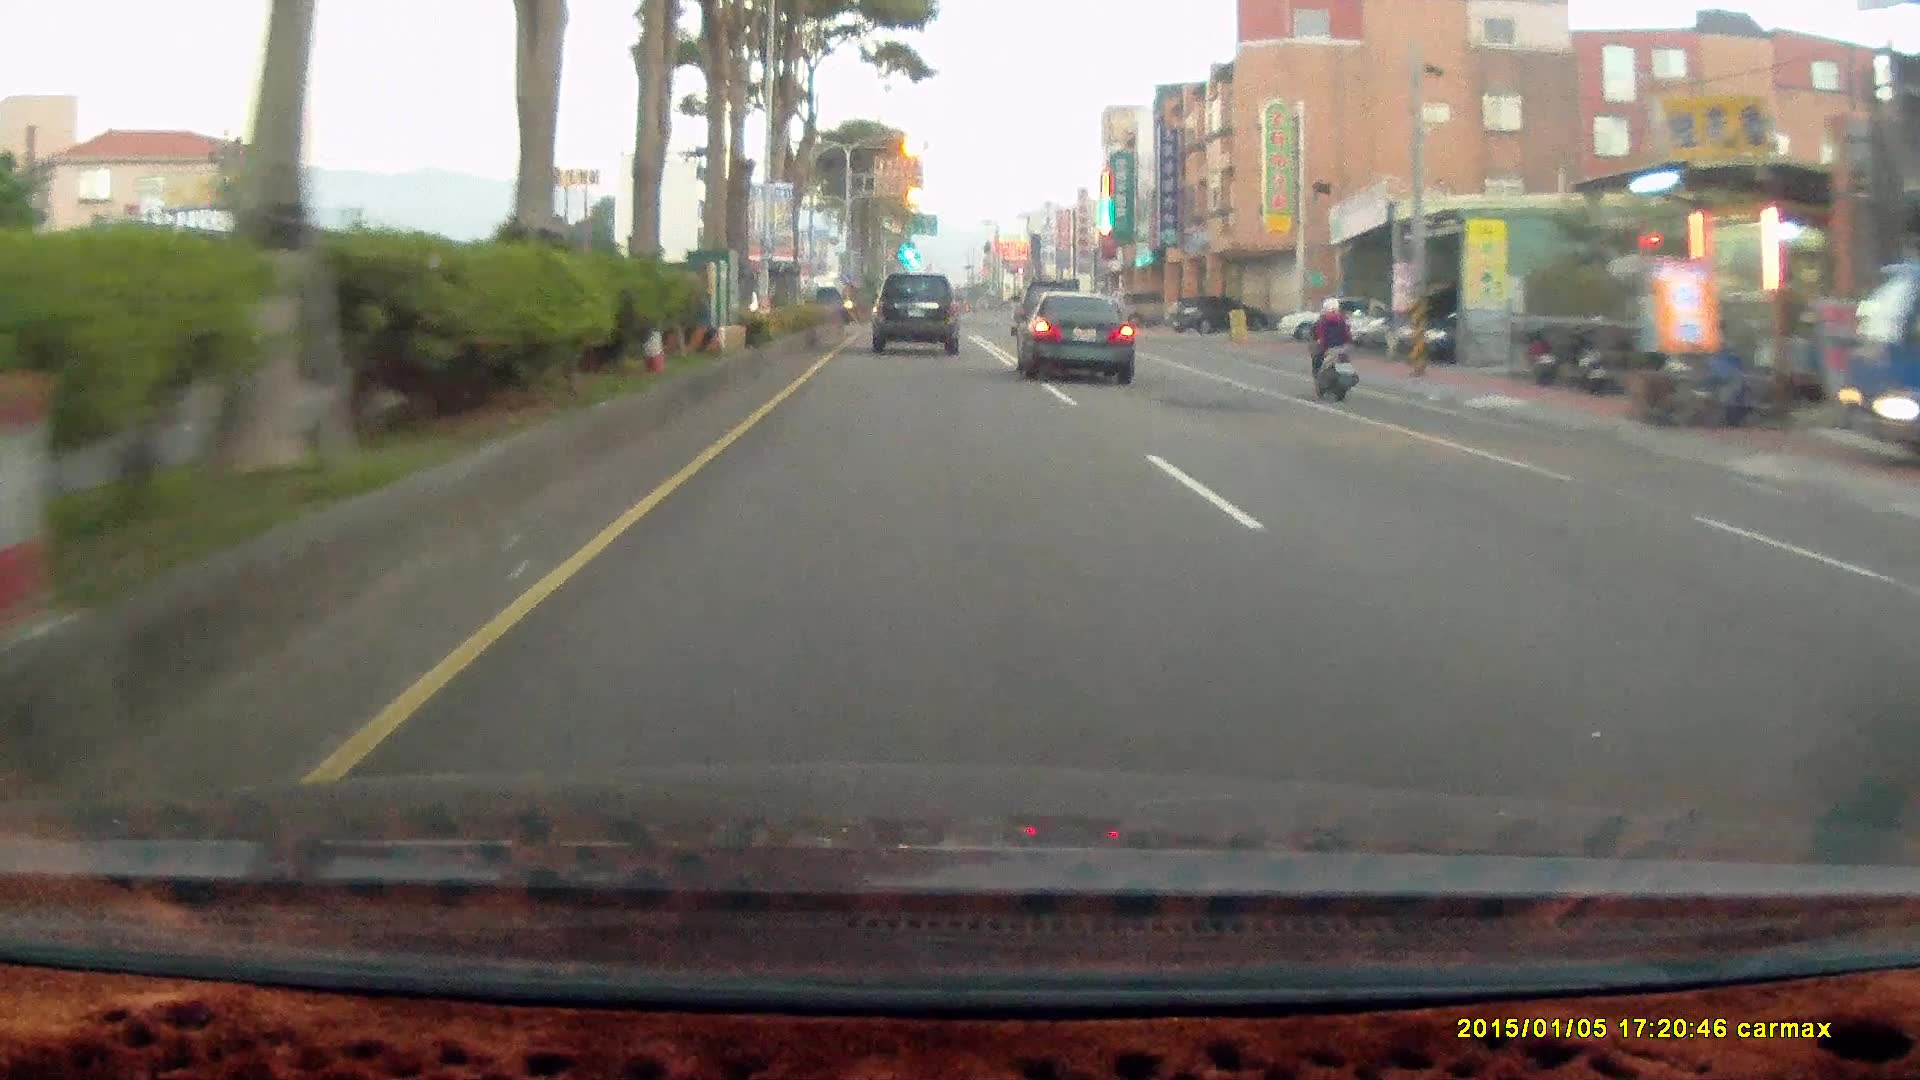rider: (1295, 289, 1368, 409), (1299, 292, 1357, 398)
vehicle: (1832, 259, 1920, 466), (1833, 258, 1920, 464), (1020, 292, 1143, 388), (1012, 290, 1133, 383), (1411, 297, 1547, 364), (872, 271, 964, 358), (869, 272, 959, 356), (1276, 295, 1404, 345), (1170, 295, 1266, 340), (1162, 294, 1264, 335), (1111, 290, 1186, 327)
